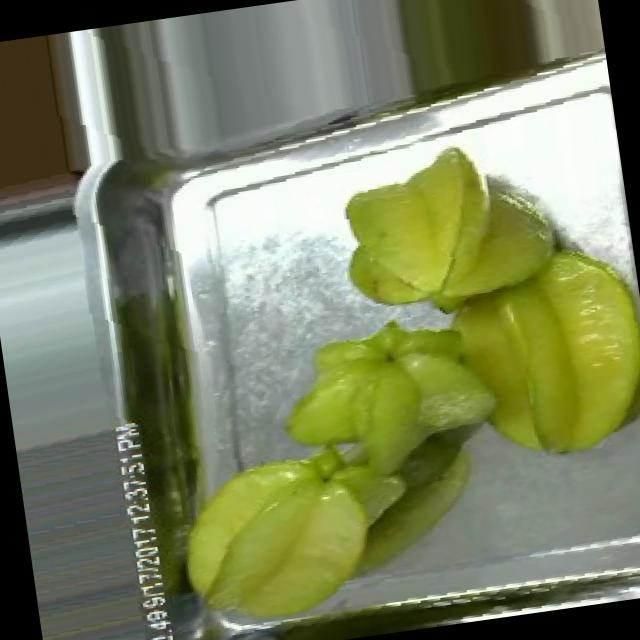fruit: (256, 288, 531, 521), (420, 220, 640, 485), (315, 125, 568, 338), (163, 438, 395, 640), (367, 0, 557, 140), (491, 0, 608, 89)
